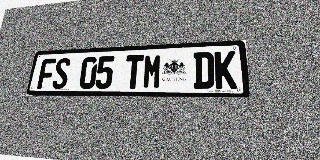0: (78, 56, 98, 89)
5: (95, 56, 115, 89)
D: (193, 52, 214, 89)
F: (37, 58, 56, 89)
K: (214, 51, 237, 89)
M: (142, 54, 162, 89)
S: (51, 58, 71, 89)
T: (124, 55, 144, 89)
